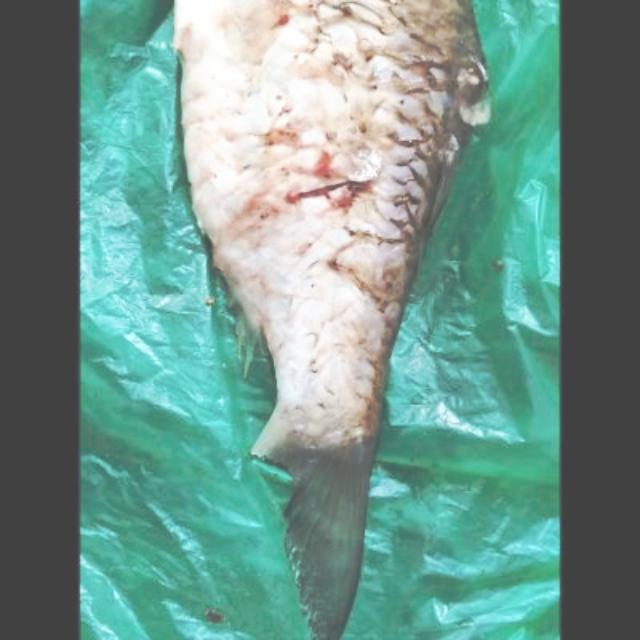Edwardsiella Ictaluri -Bacterial Red Disease-: (174, 0, 490, 638)
